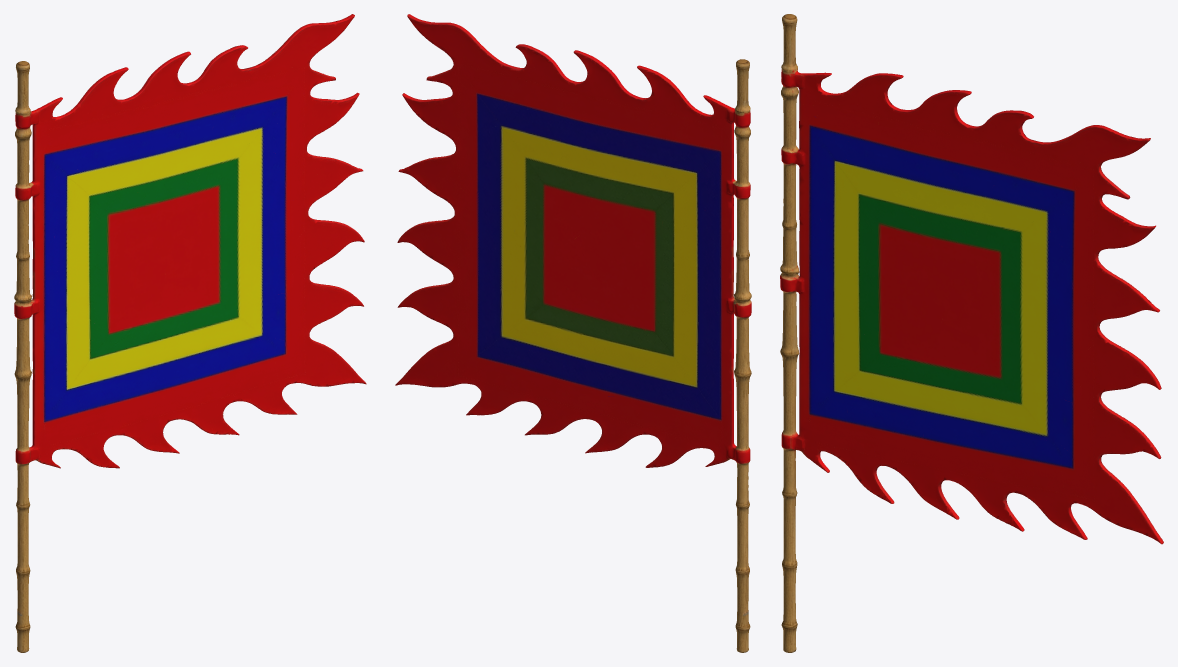
Rendered from congusac.glb.
3 renders of one model, left to right at view 1: azimuth 30°, elevation 25°; view 2: azimuth 150°, elevation 25°; view 3: azimuth 330°, elevation 25°, orthographic. The views are drawn at different scales.
Bounding box in the file's own units: 1.19 × 1.9 × 0.0509.
1 material, 1 textured.
